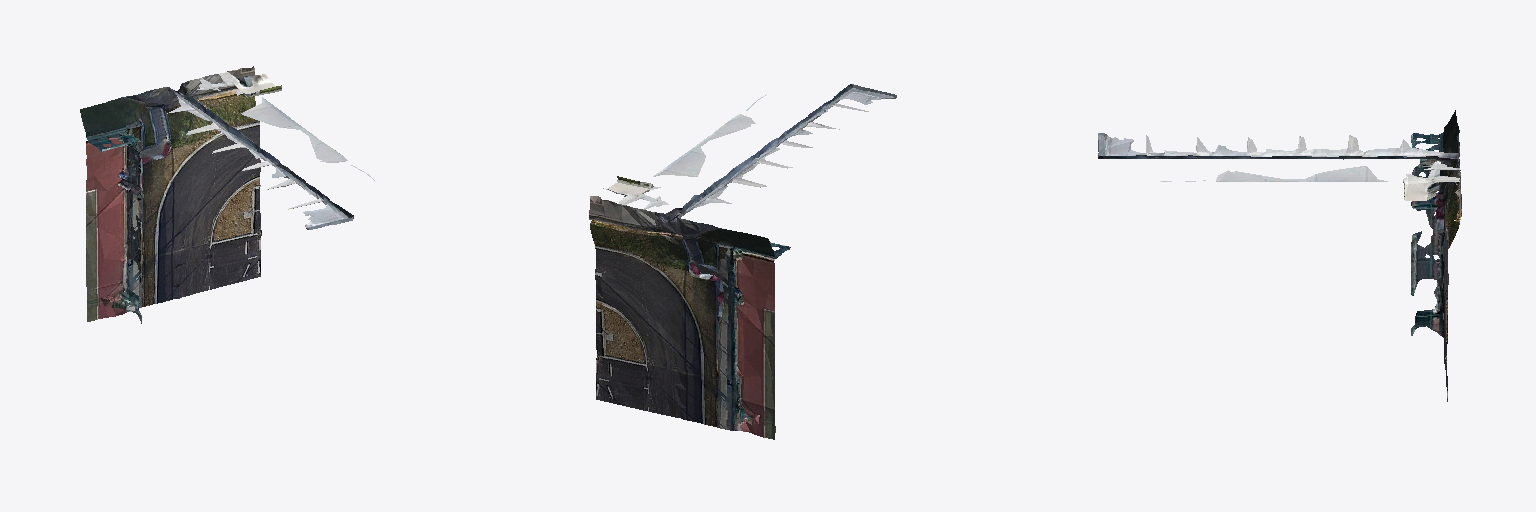
3 renders of one model, left to right at view 1: azimuth 30°, elevation 25°; view 2: azimuth 150°, elevation 25°; view 3: azimuth 270°, elevation 25°, orthographic.
Visible parts, largest first — view 1: obj_0; view 2: obj_0; view 3: obj_0.
Part boxes in pixels (bbox=[...]): obj_0: bbox=[80, 66, 374, 323]; obj_0: bbox=[589, 84, 896, 439]; obj_0: bbox=[1098, 110, 1461, 401].
Size of the model in its own units: 20.08 by 22.53 by 35.82.
Materials: 1 (1 with a texture image).